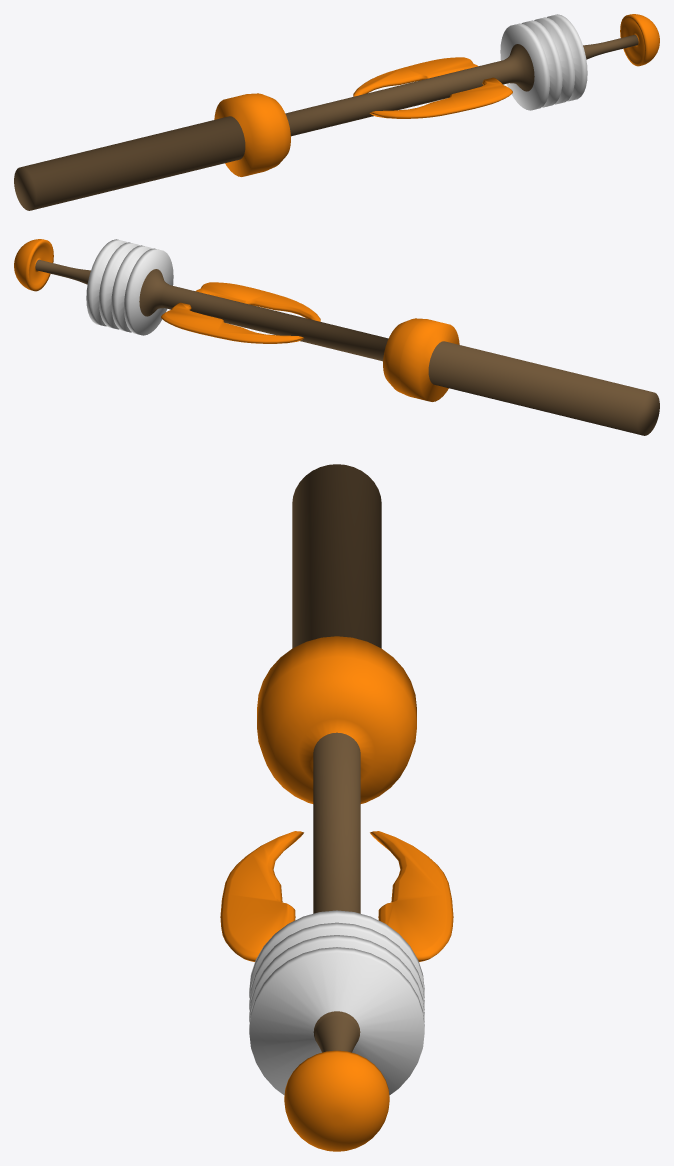
File: Deco-Bonus-D.fbx
3 renders of one model, top to bottom at view 1: azimuth 30°, elevation 25°; view 2: azimuth 150°, elevation 25°; view 3: azimuth 270°, elevation 25°, orthographic. The views are drawn at different scales.
Parts seen in each view (by area): view 1: Deco-Bonus D; view 2: Deco-Bonus D; view 3: Deco-Bonus D.
Boxes of the visible parts, x1,y1,x2,y2 form: Deco-Bonus D: (14, 14, 659, 210); Deco-Bonus D: (14, 239, 659, 435); Deco-Bonus D: (220, 464, 453, 1151).
Bounding box in the file's own units: 52389 × 6313 × 8386.
